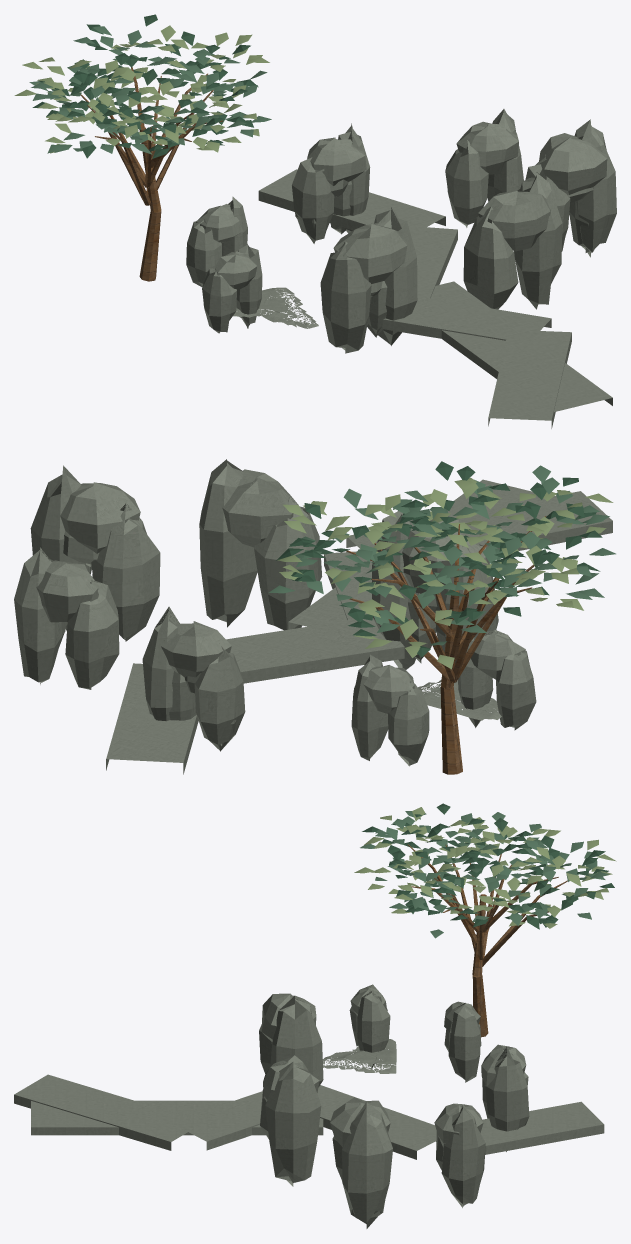
File: qujingtongyou.glb
3 renders of one model, top to bottom at view 1: azimuth 30°, elevation 25°; view 2: azimuth 150°, elevation 25°; view 3: azimuth 270°, elevation 25°, orthographic. The views are drawn at different scales.
Parts seen in each view (by area): view 1: qujingtongyou_stone, qujingtongyou_lightleaf, qujingtongyou_leaf, qujingtongyou_leafdark, qujingtongyou_wood, PolyHaven_coast_rocks_02.001; view 2: qujingtongyou_stone, qujingtongyou_lightleaf, qujingtongyou_leaf, qujingtongyou_leafdark, qujingtongyou_wood, PolyHaven_coast_rocks_02.001; view 3: qujingtongyou_stone, qujingtongyou_lightleaf, qujingtongyou_leaf, qujingtongyou_leafdark, qujingtongyou_wood, PolyHaven_coast_rocks_02.001.
Part boxes in pixels (left/top/right/bottom): qujingtongyou_stone: left=186, top=109, right=616, bottom=428; qujingtongyou_lightleaf: left=14, top=25, right=269, bottom=153; qujingtongyou_leaf: left=29, top=26, right=271, bottom=154; qujingtongyou_leafdark: left=32, top=14, right=258, bottom=158; qujingtongyou_wood: left=80, top=67, right=223, bottom=281; PolyHaven_coast_rocks_02.001: left=233, top=287, right=318, bottom=328; qujingtongyou_stone: left=14, top=459, right=612, bottom=774; qujingtongyou_lightleaf: left=277, top=477, right=613, bottom=669; qujingtongyou_leaf: left=268, top=465, right=615, bottom=645; qujingtongyou_leafdark: left=276, top=461, right=602, bottom=657; qujingtongyou_wood: left=346, top=516, right=546, bottom=774; PolyHaven_coast_rocks_02.001: left=418, top=679, right=501, bottom=720; qujingtongyou_stone: left=14, top=984, right=604, bottom=1228; qujingtongyou_lightleaf: left=354, top=807, right=616, bottom=928; qujingtongyou_leaf: left=360, top=811, right=609, bottom=938; qujingtongyou_leafdark: left=362, top=803, right=614, bottom=929; qujingtongyou_wood: left=407, top=844, right=567, bottom=1037; PolyHaven_coast_rocks_02.001: left=322, top=1039, right=396, bottom=1073.
Size of the model in its own units: 24.22 by 10.86 by 26.83.
Materials: 5 (2 with a texture image).
